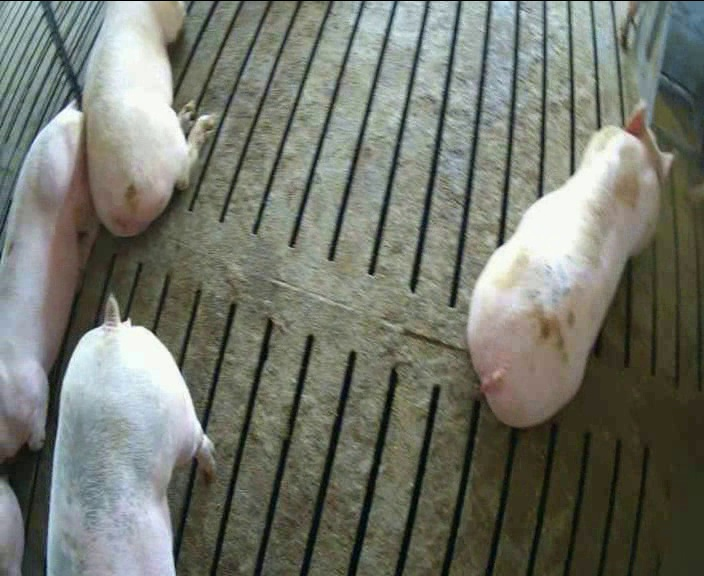pig: (467, 105, 672, 426), (49, 294, 213, 574), (0, 104, 97, 462), (83, 2, 214, 235)
